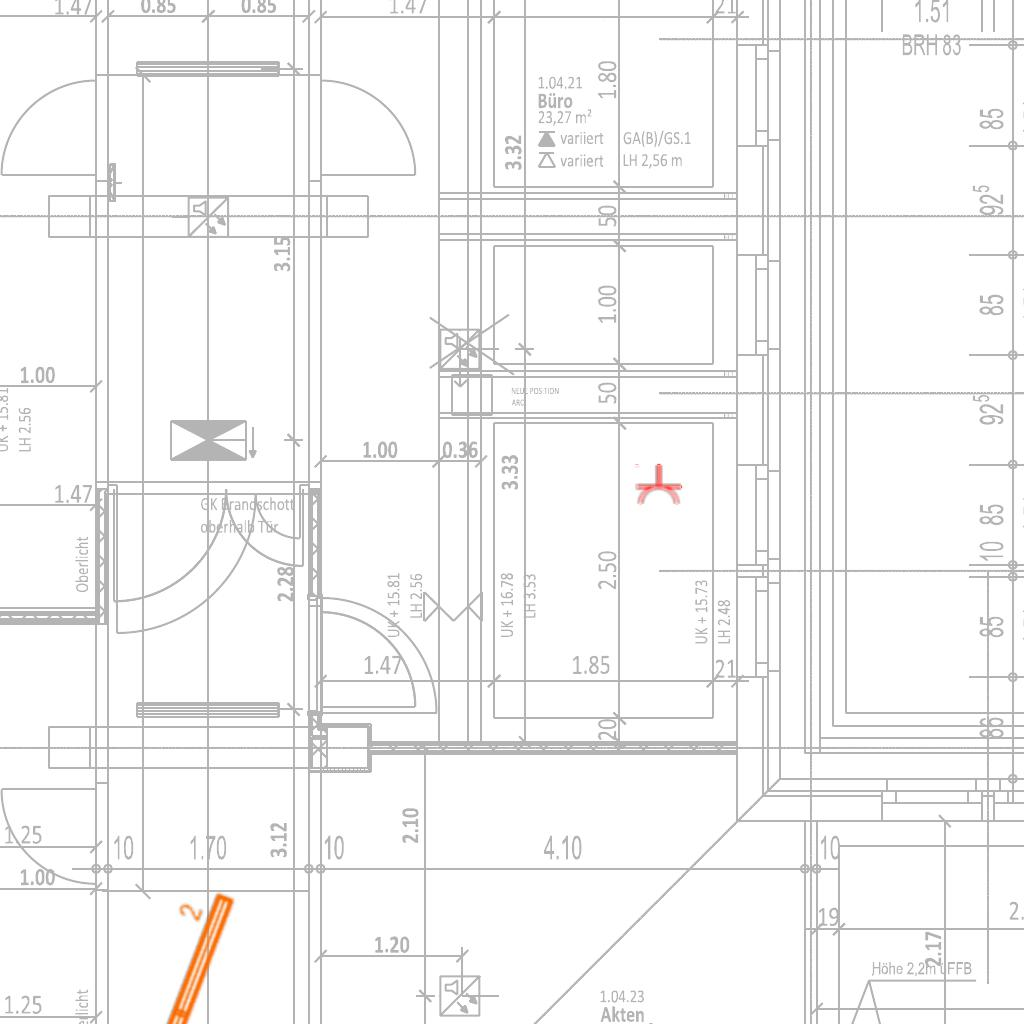Ambulanz_Pendelleuchte_LED: (51, 877, 242, 1024)
Schukosteckdose_einfach: (633, 463, 683, 506)
